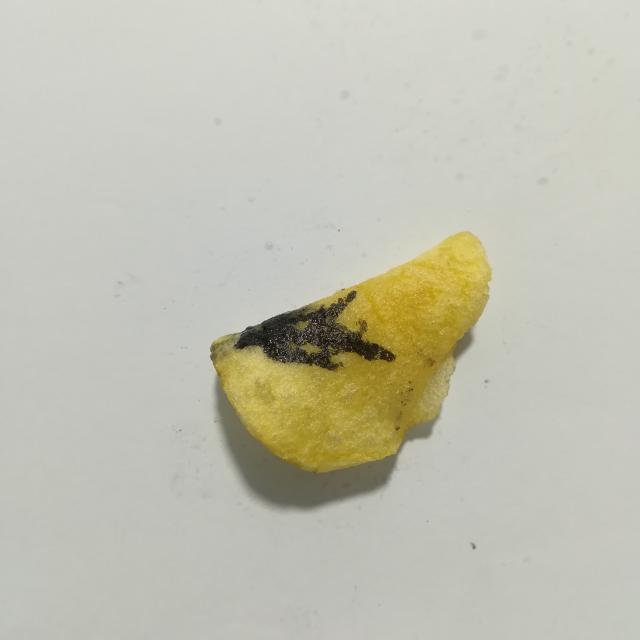chip: (211, 232, 491, 472)
damaged: (235, 290, 395, 370)
semi-damaged: (210, 333, 240, 364)
